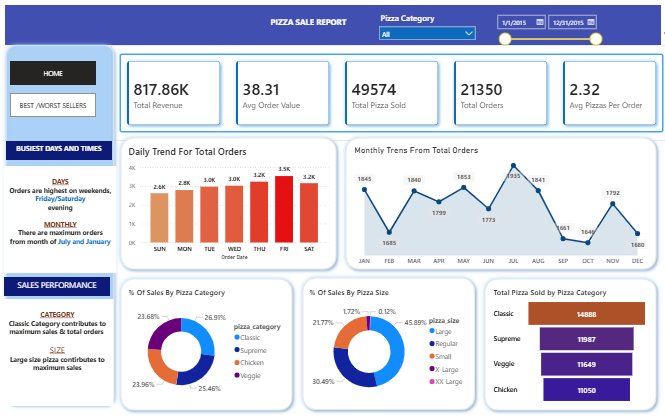

The dashboard page shown, as its layout file describes it:
{"tool":"powerbi","page":{"name":"HOME","canvas":[1350,850],"ordinal":0},"visuals":[{"type":"cardVisual","fields":{"Data":["pizza_sales.Total Revenue","pizza_sales.Avg Order Value","pizza_sales.Total Pizza Sold","pizza_sales.Total Orders","pizza_sales.Avg Pizzas Per Order"]},"box":[226,98,1124,192],"z":0},{"type":"textbox","box":[14,18,1312,80],"z":1000},{"type":"textbox","box":[540.9,37,196.5,43.7],"z":2000},{"type":"shape","box":[236,274,450,282],"z":3000},{"type":"columnChart","title":"Daily Trend For Total Orders","fields":{"Category":["pizza_sales.Order Date"],"Y":["pizza_sales.Total Orders"]},"box":[256,298,410,234],"z":4000},{"type":"shape","box":[686,274,640,282],"z":5000},{"type":"areaChart","title":"Monthly Trens From Total Orders","fields":{"Y":["pizza_sales.Total Orders"],"Category":["pizza_sales.Order Month"]},"box":[708,298,596,250],"z":6000},{"type":"shape","box":[236,556,362,282],"z":7000},{"type":"shape","box":[600,554.3,362.9,282.9],"z":8000},{"type":"shape","box":[964,556,362,282],"z":9000},{"type":"donutChart","title":"% Of Sales By Pizza Category","fields":{"Y":["pizza_sales.Total Revenue"],"Category":["pizza_sales.pizza_category"]},"box":[255.7,581.4,328.6,238.6],"z":10000},{"type":"donutChart","title":"% Of Sales By Pizza Size","fields":{"Y":["pizza_sales.Total Revenue"],"Category":["pizza_sales.pizza_size"]},"box":[617.1,581.4,328.6,238.6],"z":11000},{"type":"funnel","title":"Total Pizza Sold by Pizza Category","fields":{"Category":["pizza_sales.pizza_category"],"Y":["pizza_sales.Total Pizza Sold"]},"box":[986,582,318,238],"z":12000},{"type":"shape","box":[5.7,88.6,235.7,740],"z":13000},{"type":"textbox","box":[11.2,340,212.5,37.5],"z":14000},{"type":"textbox","box":[11.2,340,225,213.8],"z":15000},{"type":"textbox","box":[5,606.2,225,213.8],"z":16000},{"type":"textbox","box":[11.7,561.7,211.7,38.3],"z":17000},{"type":"textbox","box":[15,290,211.7,38.3],"z":18000},{"type":"slicer","fields":{"Values":["pizza_sales.pizza_category"]},"box":[751.2,28.8,212.5,60],"z":19000},{"type":"slicer","fields":{"Values":["pizza_sales.order_date"]},"box":[986.2,28.8,231.2,77.5],"z":20000},{"type":"pageNavigator","box":[24.3,130,172.9,48.6],"z":20001},{"type":"pageNavigator","box":[24.3,194.3,172.9,48.6],"z":20002}]}

Visuals, with their boxes in screenshot pixels (x1, y1, x2, y2), scaled from the page's 1350x850 canvas onto the 665x417 screenshot:
cardVisual - pizza_sales.Total Revenue x pizza_sales.Avg Order Value: 111, 48, 664, 142
textbox: 7, 9, 653, 48
textbox: 266, 18, 363, 40
shape: 116, 134, 338, 273
"Daily Trend For Total Orders" columnChart: 126, 146, 328, 261
shape: 338, 134, 653, 273
"Monthly Trens From Total Orders" areaChart: 349, 146, 642, 269
shape: 116, 273, 295, 411
shape: 296, 272, 474, 411
shape: 475, 273, 653, 411
"% Of Sales By Pizza Category" donutChart: 126, 285, 288, 402
"% Of Sales By Pizza Size" donutChart: 304, 285, 466, 402
"Total Pizza Sold by Pizza Category" funnel: 486, 286, 642, 402
shape: 3, 43, 119, 407
textbox: 6, 167, 110, 185
textbox: 6, 167, 116, 272
textbox: 2, 297, 113, 402
textbox: 6, 276, 110, 294
textbox: 7, 142, 112, 161
slicer - pizza_sales.pizza_category: 370, 14, 475, 44
slicer - pizza_sales.order_date: 486, 14, 600, 52
pageNavigator: 12, 64, 97, 88
pageNavigator: 12, 95, 97, 119
